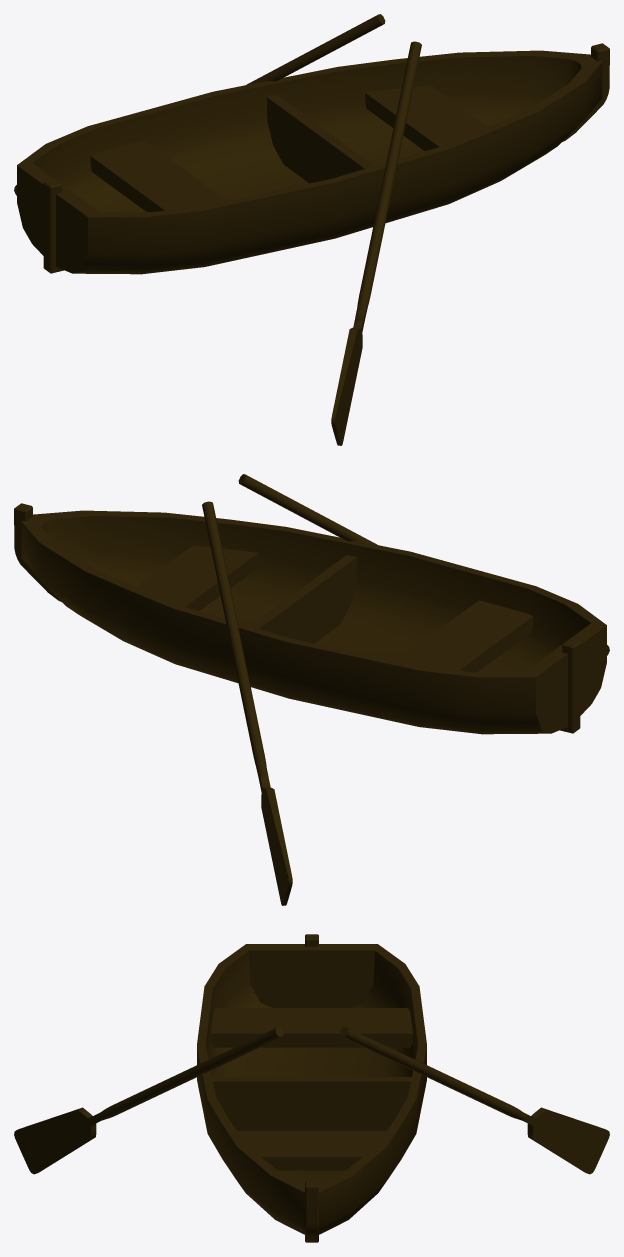
File: Dinghy.fbx
The picture shows the model from 3 angles, top to bottom: view 1: azimuth 30°, elevation 25°; view 2: azimuth 150°, elevation 25°; view 3: azimuth 270°, elevation 25°; orthographic projection. The views are drawn at different scales.
Visible parts, largest first — view 1: Plane, Cylinder, seat back, divider, seat front, spine; view 2: Plane, Cylinder, seat back, divider, seat front, spine; view 3: Plane, Cylinder, divider, seat back, seat front, spine.
Boxes of the visible parts, x1,y1,x2,y2 form: Plane: (17,50,602,274); Cylinder: (14,14,421,445); seat back: (90,140,227,211); divider: (267,95,374,183); seat front: (365,85,487,151); spine: (43,43,609,273); Plane: (21,510,606,734); Cylinder: (202,474,609,905); seat back: (396,600,533,671); divider: (249,555,356,643); seat front: (136,545,258,611); spine: (14,503,580,733); Plane: (197,944,426,1234); Cylinder: (14,1027,609,1174); divider: (212,1077,411,1130); seat back: (211,1008,412,1047); seat front: (237,1131,386,1170); spine: (305,934,318,1242).
Size of the model in its own units: 307 by 135 by 303.
